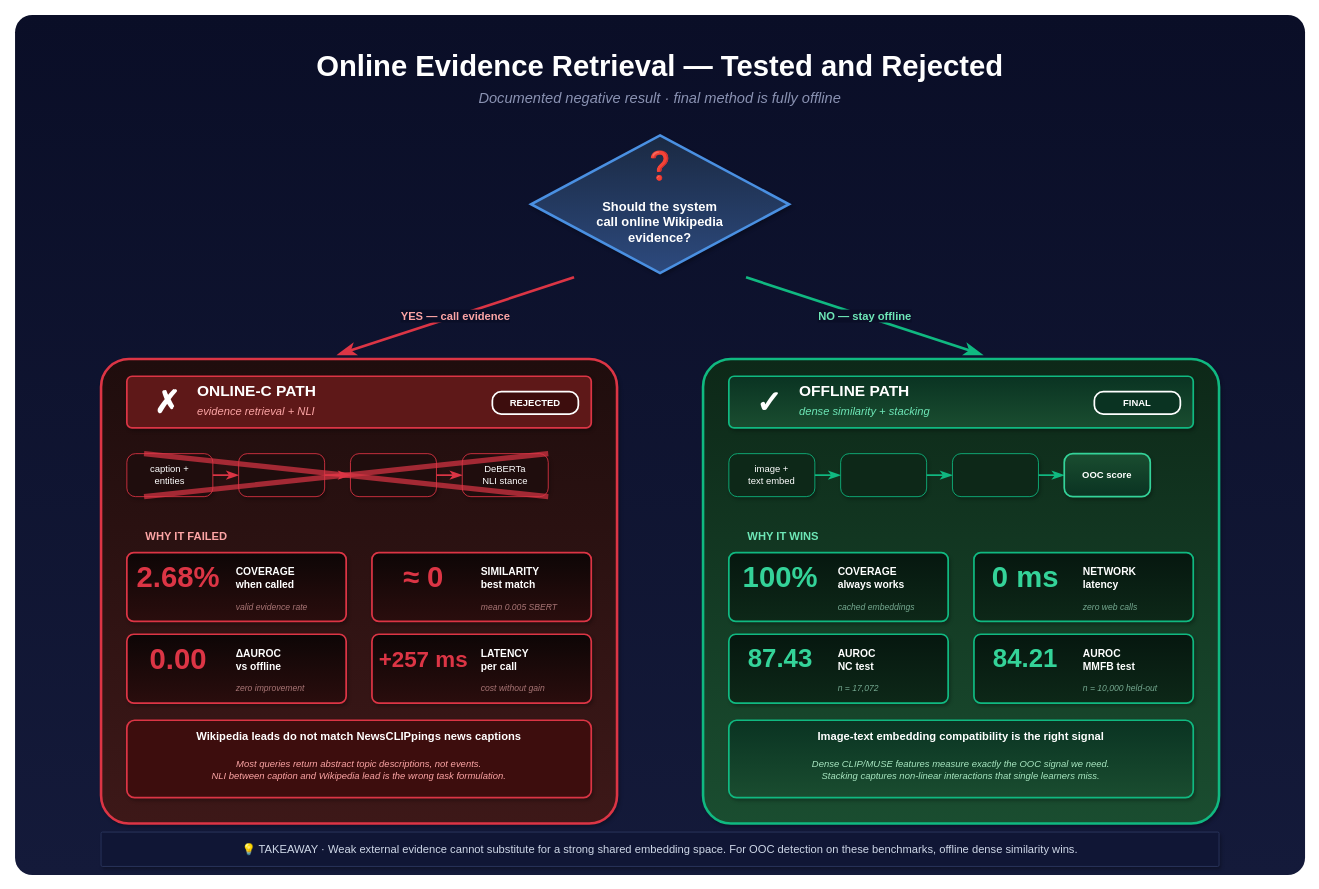
This 1319x889 diagram has some shape labels left out. The centre of each missing label's shape, as x and y in pixels:
"dense MUSE features" belongs at (x=884, y=476).
"SBERT rerank" belongs at (x=394, y=476).
"stacked ensemble" belongs at (x=996, y=476).
"Wikipedia REST API" belongs at (x=282, y=476).
